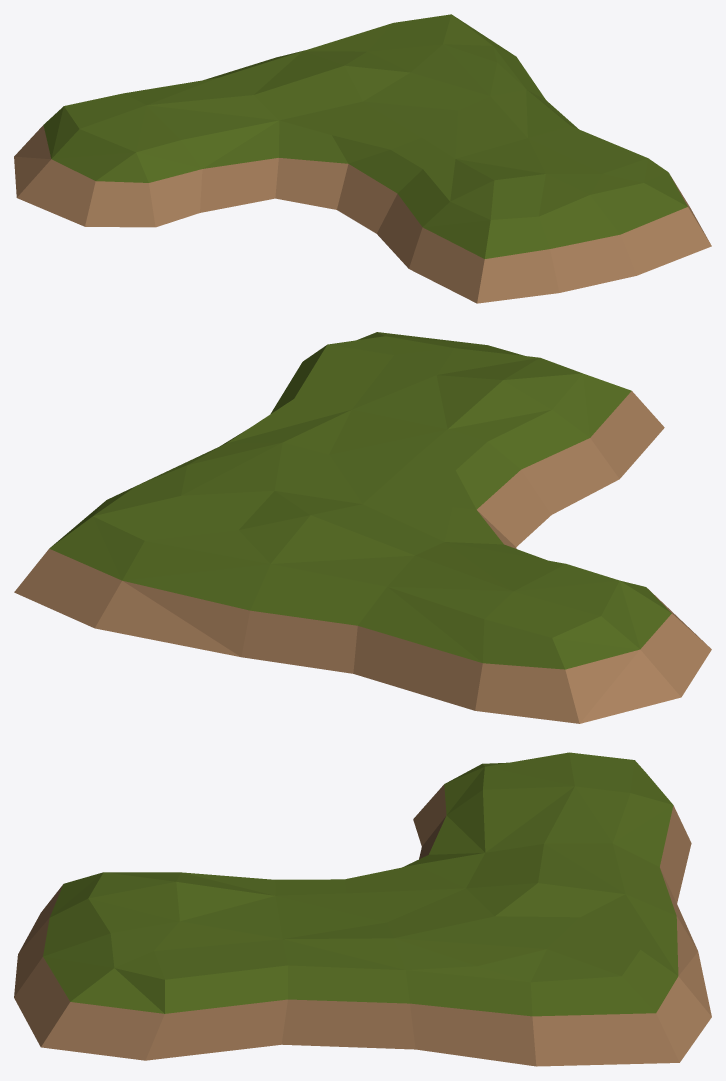
The model's file is TB_Env_Mound_Corner_A.FBX.
3 renders of one model, top to bottom at view 1: azimuth 30°, elevation 25°; view 2: azimuth 150°, elevation 25°; view 3: azimuth 270°, elevation 25°, orthographic. The views are drawn at different scales.
Parts seen in each view (by area): view 1: TB_Env_Mound_Corner_A; view 2: TB_Env_Mound_Corner_A; view 3: TB_Env_Mound_Corner_A.
Part boxes in pixels (x1=…): TB_Env_Mound_Corner_A: x1=14, y1=14, x2=711, y2=303; TB_Env_Mound_Corner_A: x1=14, y1=332, x2=711, y2=723; TB_Env_Mound_Corner_A: x1=14, y1=752, x2=711, y2=1066.
Bounding box in the file's own units: 24.99 × 3.02 × 25.45.
